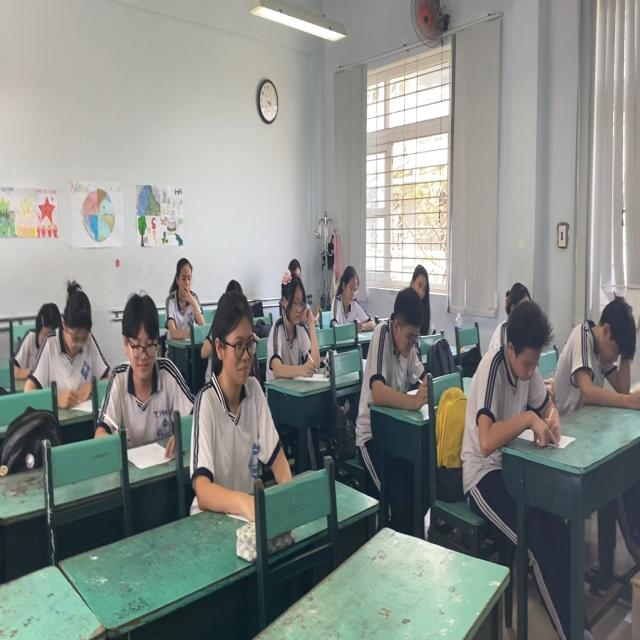not_cheating: (194, 292, 283, 486), (476, 300, 562, 448), (106, 288, 182, 434), (554, 285, 637, 413), (363, 285, 433, 409), (36, 268, 100, 388), (270, 271, 318, 378), (326, 254, 367, 330), (164, 254, 203, 330), (410, 258, 429, 319)
